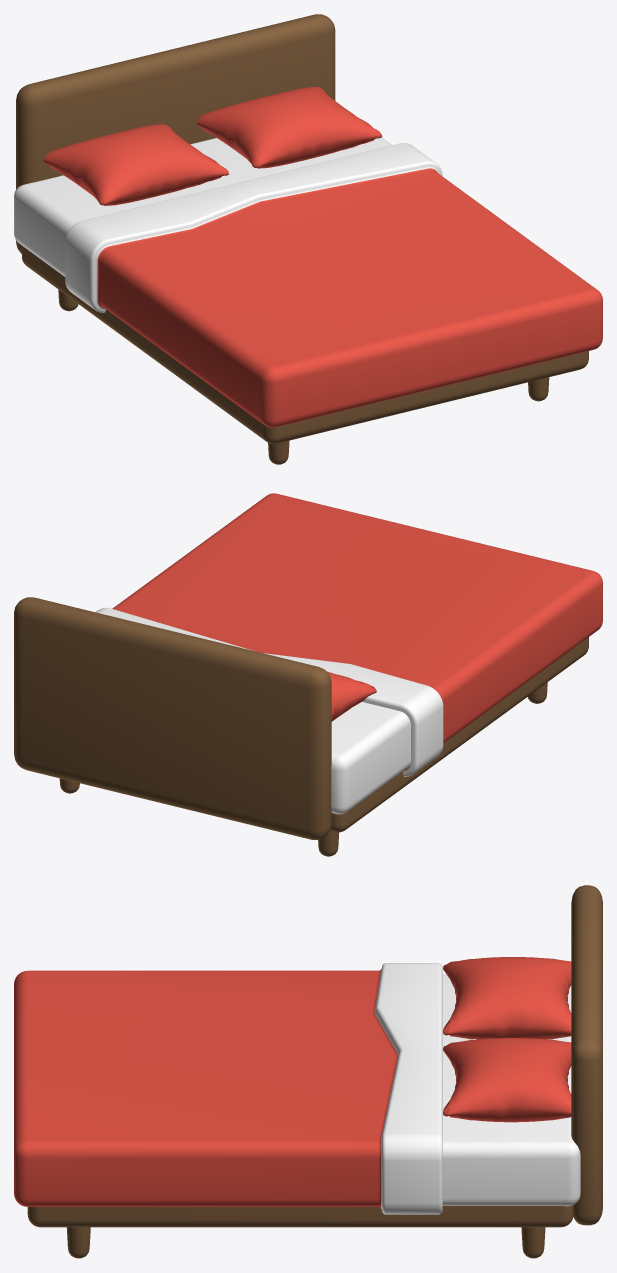
Rendered from Bed-1.fbx.
The picture shows the model from 3 angles, top to bottom: view 1: azimuth 30°, elevation 25°; view 2: azimuth 150°, elevation 25°; view 3: azimuth 270°, elevation 25°; orthographic projection. The views are drawn at different scales.
Parts seen in each view (by area): view 1: Cube.002, Cube.004, Plane.001, Plane.002, Cube, Cube.001; view 2: Cube.002, Cube.004, Cube.001, Cube, Plane.001; view 3: Cube.002, Cube.001, Cube, Cube.004, Plane.002, Plane.001, Cylinder.002, Cylinder.
Part boxes in pixels (<box>): Cube.002: <box>65,143,602,427</box>; Cube.004: <box>16,14,335,253</box>; Plane.001: <box>43,124,228,205</box>; Plane.002: <box>196,86,382,168</box>; Cube: <box>22,246,588,443</box>; Cube.001: <box>14,137,392,276</box>; Cube.002: <box>95,493,602,776</box>; Cube.004: <box>14,597,331,839</box>; Cube.001: <box>331,702,410,814</box>; Cube: <box>330,637,588,832</box>; Plane.001: <box>327,671,376,721</box>; Cube.002: <box>14,963,442,1214</box>; Cube.001: <box>442,974,580,1206</box>; Cube: <box>27,1205,573,1227</box>; Cube.004: <box>571,885,602,1225</box>; Plane.002: <box>443,1038,571,1122</box>; Plane.001: <box>443,957,571,1039</box>; Cylinder.002: <box>521,1227,545,1258</box>; Cylinder: <box>66,1227,90,1258</box>.
Size of the model in its own units: 2.79 by 1.58 by 3.73.
